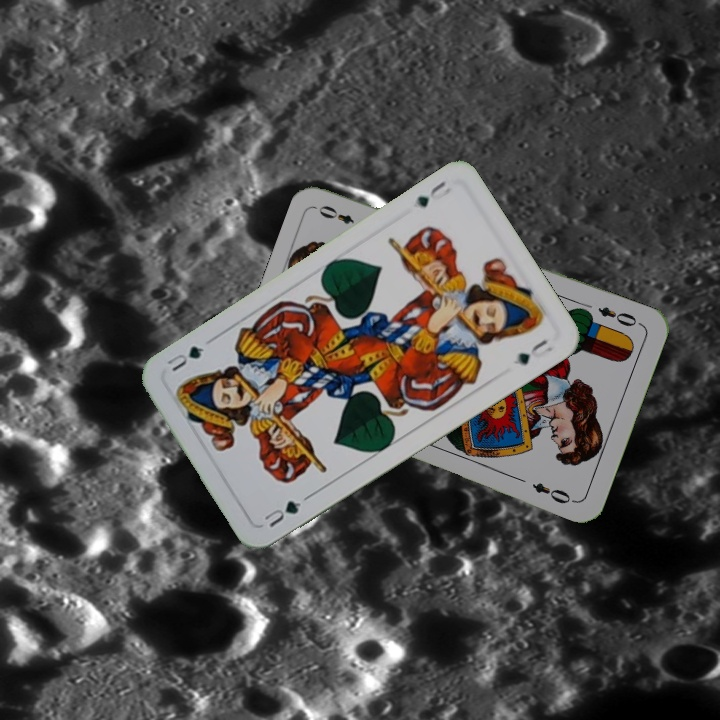EO: (594, 302, 644, 330)
GU: (260, 496, 304, 530), (412, 177, 454, 210)
